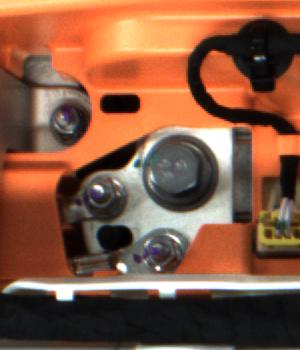nut_b: (134, 129, 235, 213)
